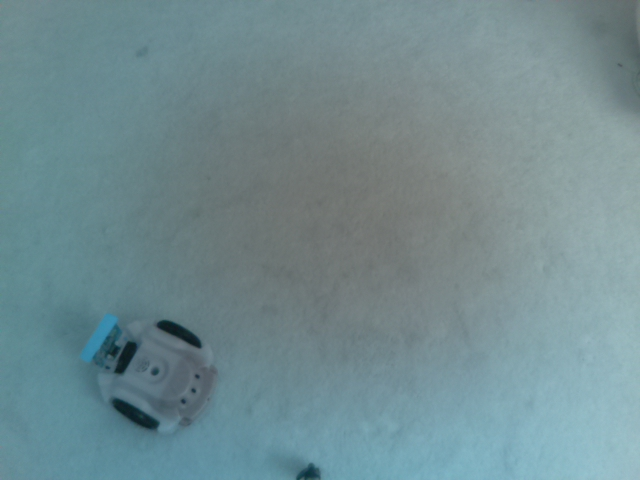board: (82, 312, 124, 368)
chassis: (81, 296, 220, 440)
